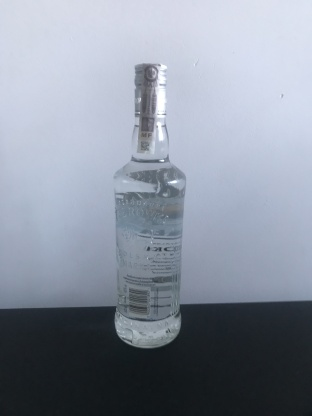nakretka: (131, 58, 169, 121)
